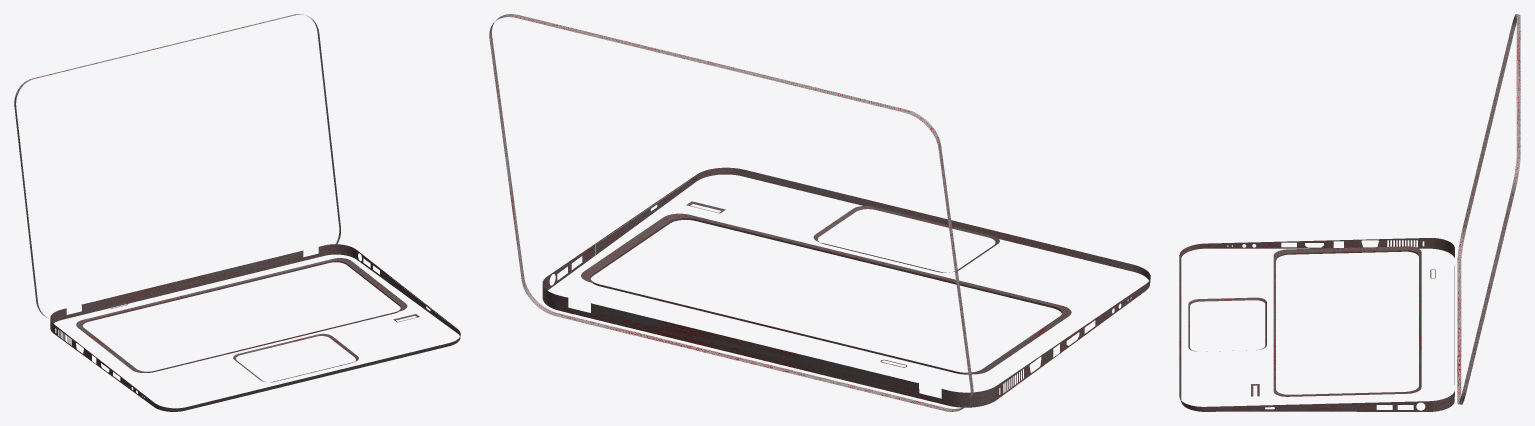
File: lines.dae
3 renders of one model, left to right at view 1: azimuth 30°, elevation 25°; view 2: azimuth 150°, elevation 25°; view 3: azimuth 270°, elevation 25°, orthographic. The views are drawn at different scales.
Parts seen in each view (by area): view 1: SketchUp_539, SketchUp_402, SketchUp_593, SketchUp_703; view 2: SketchUp_539, SketchUp_593, SketchUp_402, SketchUp_703, SketchUp_524; view 3: SketchUp_593, SketchUp_539, SketchUp_402, SketchUp_524, SketchUp_703.
Part boxes in pixels (x1,y1,x2,y2): SketchUp_539: (50,244,460,411); SketchUp_402: (76,258,407,372); SketchUp_593: (14,14,340,318); SketchUp_703: (233,333,358,382); SketchUp_539: (542,167,1150,407); SketchUp_593: (489,14,973,411); SketchUp_402: (581,213,1071,374); SketchUp_703: (813,206,999,272); SketchUp_524: (596,180,690,254); SketchUp_593: (1457,14,1520,404); SketchUp_539: (1179,238,1454,411); SketchUp_402: (1273,246,1421,396); SketchUp_524: (1216,404,1356,411); SketchUp_703: (1188,297,1266,351).
Bounding box in the file's own units: 0.3509 × 0.3098 × 0.2453.
